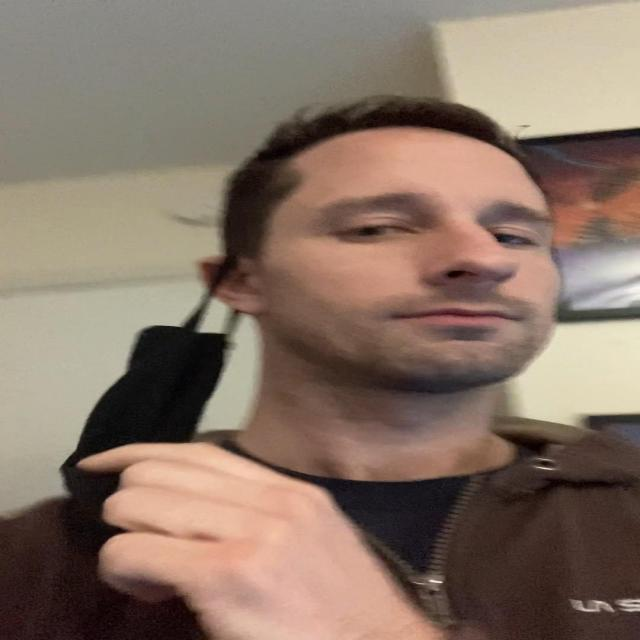no hat: (205, 108, 583, 416)
